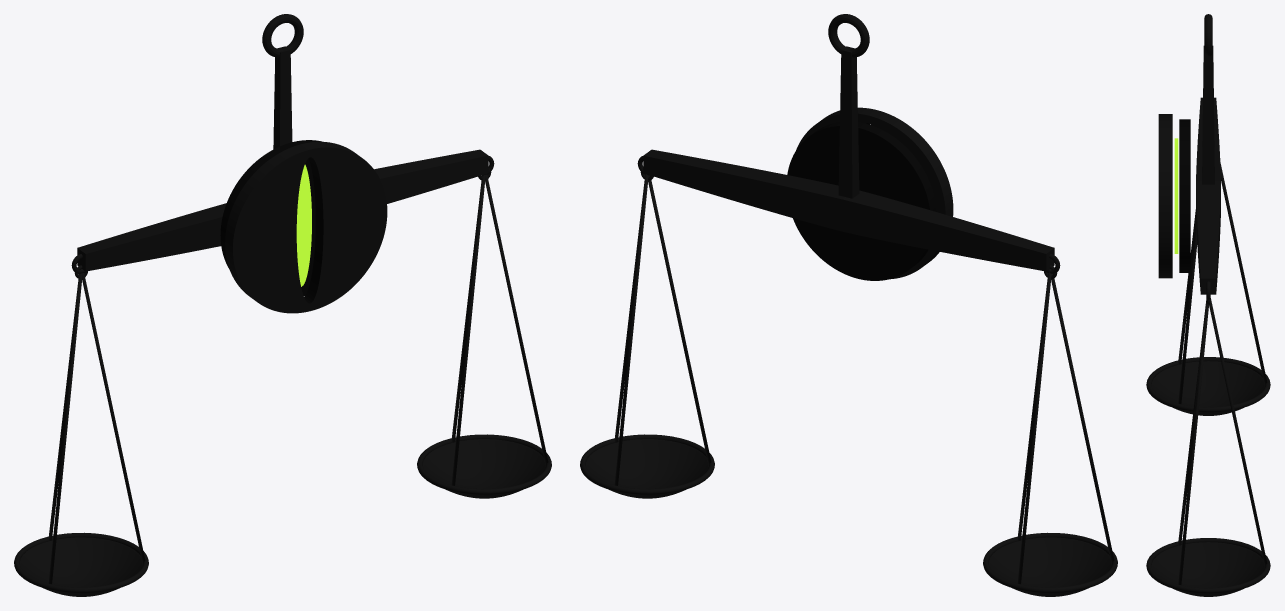
3 renders of one model, left to right at view 1: azimuth 30°, elevation 25°; view 2: azimuth 150°, elevation 25°; view 3: azimuth 270°, elevation 25°, orthographic. The views are drawn at different scales.
Parts seen in each view (by area): view 1: boss, pan_L, pan_R, beam, stem, backing, lens; view 2: beam, backing, pan_L, pan_R, stem, boss; view 3: pan_R, pan_L, beam, boss, stem, backing, lens.
Part boxes in pixels (x1=…): boss: x1=225, y1=141, x2=387, y2=313; pan_L: x1=14, y1=265, x2=148, y2=596; pan_R: x1=417, y1=168, x2=551, y2=498; beam: x1=71, y1=149, x2=494, y2=273; stem: x1=262, y1=14, x2=303, y2=149; backing: x1=220, y1=140, x2=321, y2=295; lens: x1=296, y1=164, x2=311, y2=286; beam: x1=637, y1=149, x2=1060, y2=273; backing: x1=787, y1=122, x2=936, y2=280; pan_L: x1=983, y1=265, x2=1117, y2=596; pan_R: x1=580, y1=168, x2=714, y2=498; stem: x1=828, y1=14, x2=869, y2=198; boss: x1=796, y1=107, x2=953, y2=279; pan_R: x1=1146, y1=298, x2=1270, y2=596; pan_L: x1=1146, y1=162, x2=1270, y2=415; beam: x1=1196, y1=97, x2=1220, y2=299; boss: x1=1158, y1=114, x2=1172, y2=278; stem: x1=1202, y1=14, x2=1214, y2=184; backing: x1=1179, y1=119, x2=1190, y2=272; lens: x1=1174, y1=138, x2=1178, y2=253.
Bounding box in the file's own units: 1.86 × 1.79 × 0.418.
